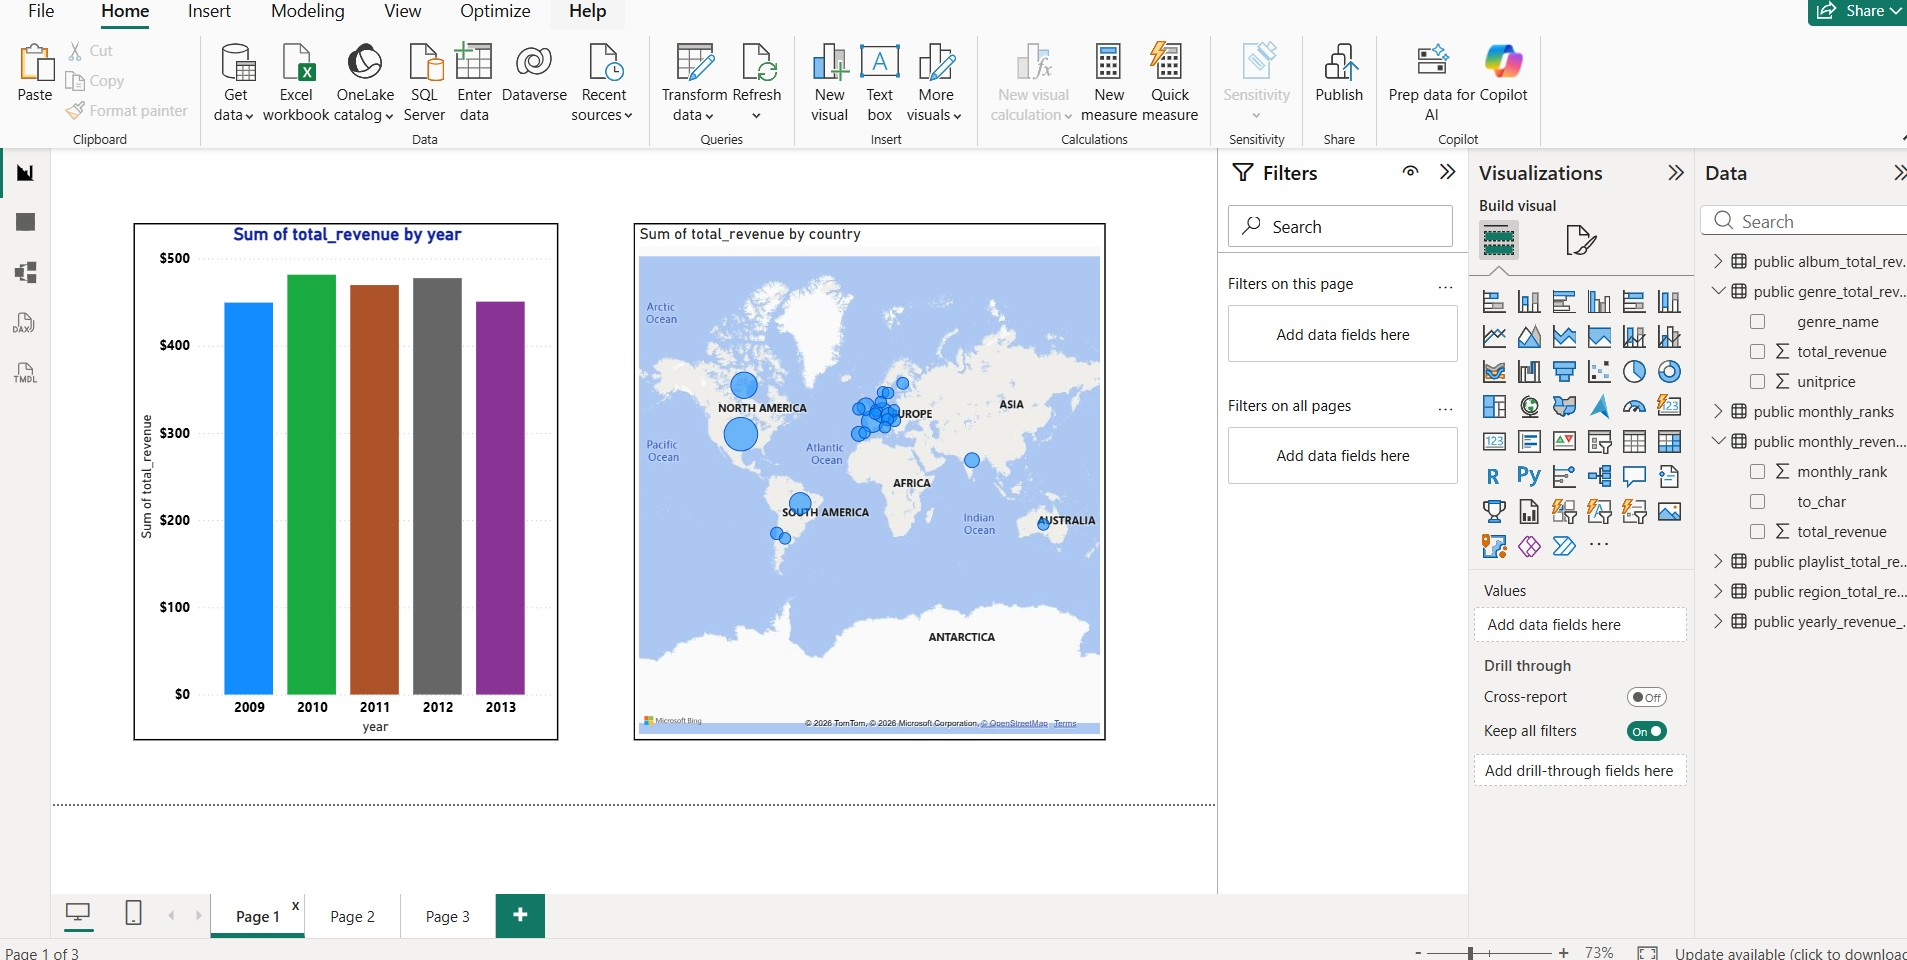

What the dashboard file says about the page in this screenshot:
{"tool":"powerbi","page":{"name":"Page 1","canvas":[1280,720],"ordinal":0},"visuals":[{"type":"columnChart","fields":{"Category":["public yearly_revenue_view.year"],"Y":["Sum(public yearly_revenue_view.total_revenue)"]},"box":[90.6,82.3,466.6,568.1],"z":0},{"type":"map","fields":{"Category":["public region_total_revenue_view.country"],"Size":["Sum(public region_total_revenue_view.total_revenue)"]},"box":[639.5,82.3,518.7,568.1],"z":1000}]}

Visuals, with their boxes on the page's 1280x720 design canvas (x1, y1, x2, y2). These are canvas units, not pixel positions in the 1907x960 screenshot, which may show the page scaled, cropped or inside an application window:
columnChart - public yearly_revenue_view.year x Sum(public yearly_revenue_view.total_revenue): locate(91, 82, 557, 650)
map - public region_total_revenue_view.country x Sum(public region_total_revenue_view.total_revenue): locate(640, 82, 1158, 650)
